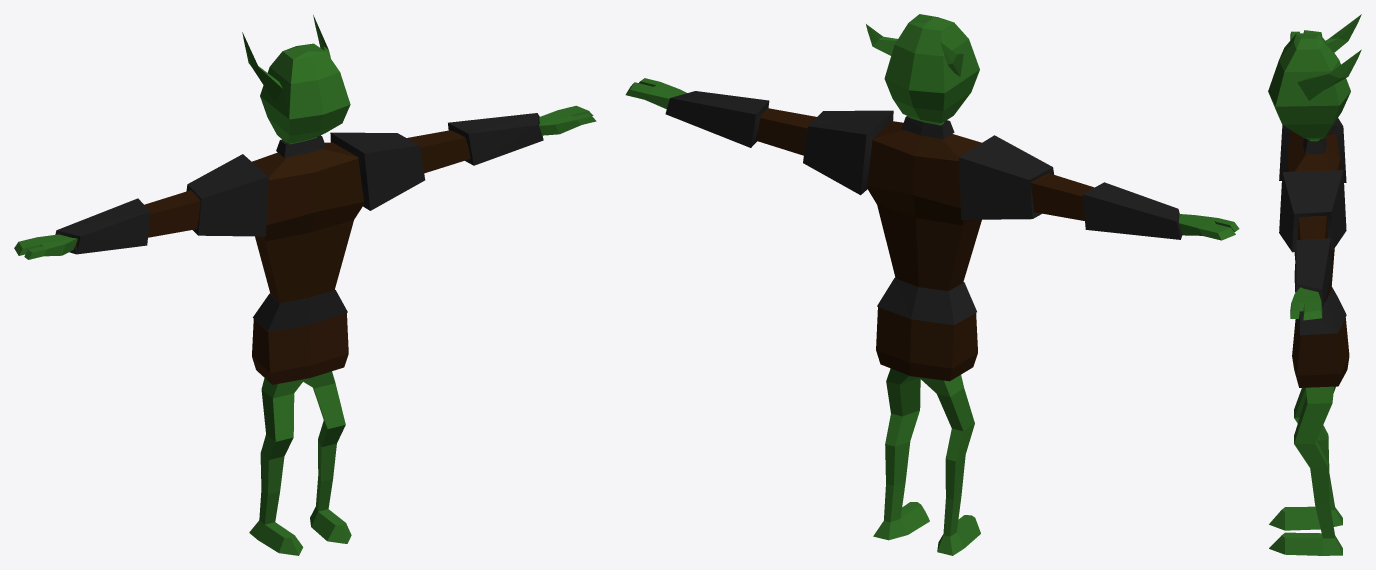
Rendered from Goblin.fbx.
3 views of the same model, side by side, from view 1: azimuth 30°, elevation 25°; view 2: azimuth 150°, elevation 25°; view 3: azimuth 270°, elevation 25° (orthographic). The views are drawn at different scales.
Parts seen in each view (by area): view 1: Object, Box002, Box001; view 2: Object, Box002, Box001; view 3: Box001, Box002, Object.
Part boxes in pixels (box(x1,y1,x2,y2)): Object: box(75, 130, 470, 384); Box002: box(55, 113, 543, 331); Box001: box(14, 15, 596, 555); Object: box(755, 108, 1182, 381); Box002: box(665, 91, 1182, 325); Box001: box(625, 14, 1239, 555); Box001: box(1268, 14, 1361, 555); Box002: box(1279, 118, 1346, 335); Object: box(1286, 132, 1349, 387).
Bounding box in the file's own units: 205 × 168 × 28.31.
